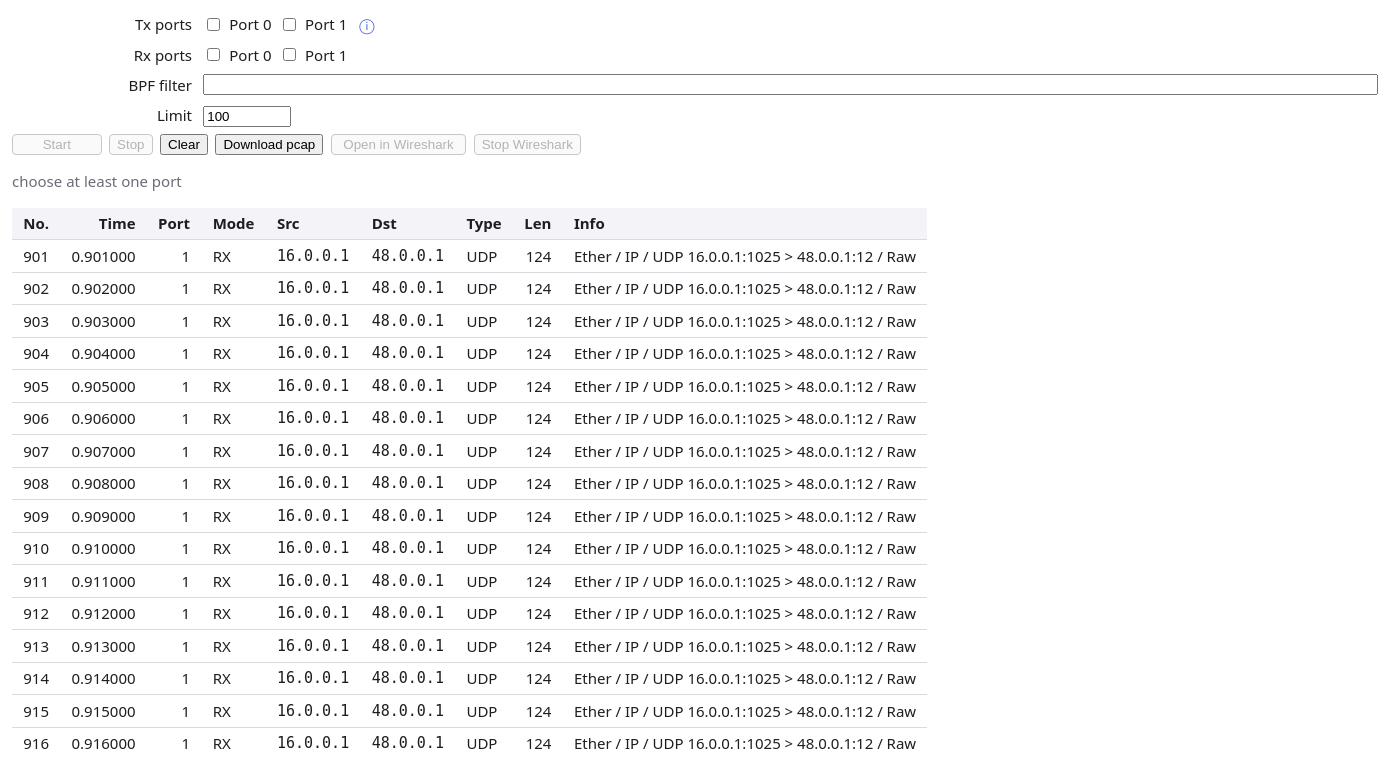
Test case: CaptureMonitor › a refused Start keeps the rows of the earlier monitor
Click the checkbox labelled "Port 1" in the row of "Rx ports" at (290, 55), box [283, 48, 296, 61]
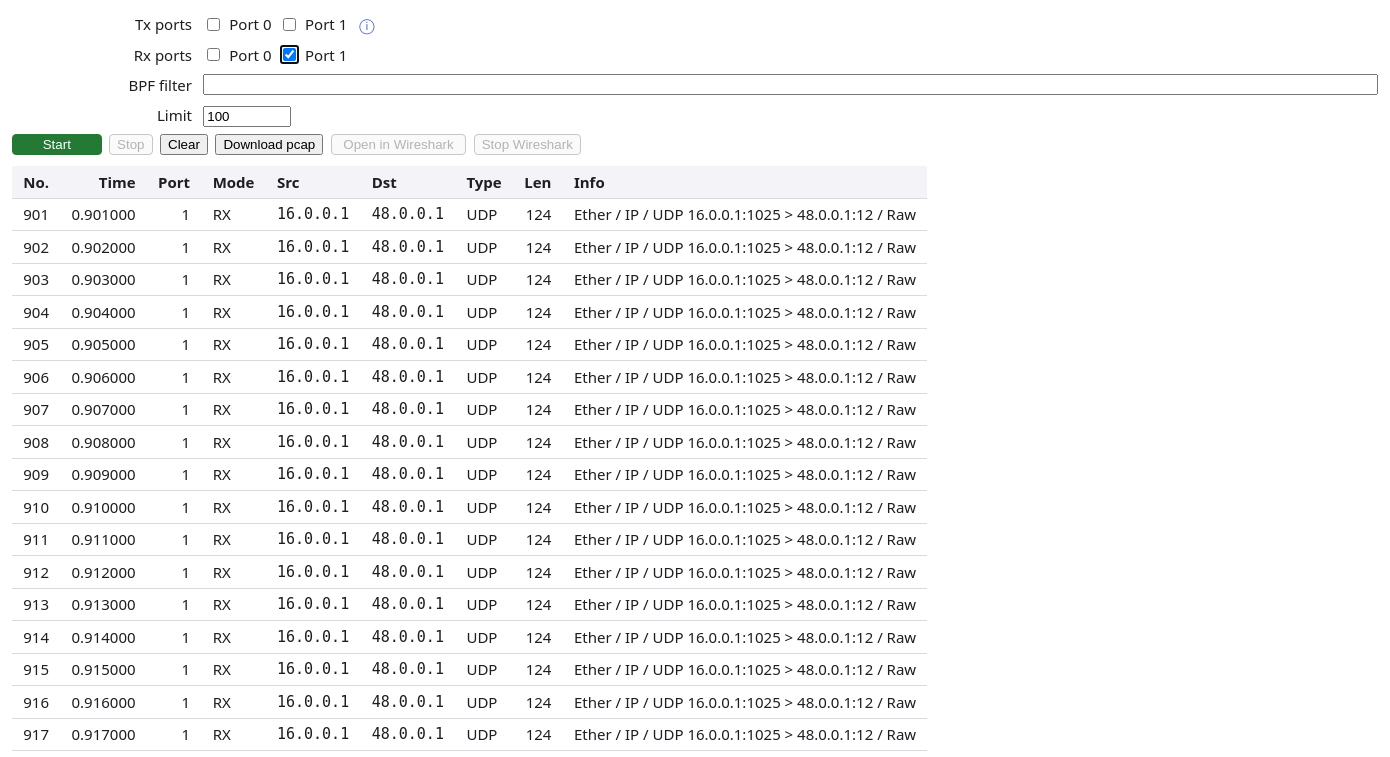
Click the button "Start" at (57, 144), box [12, 134, 102, 155]
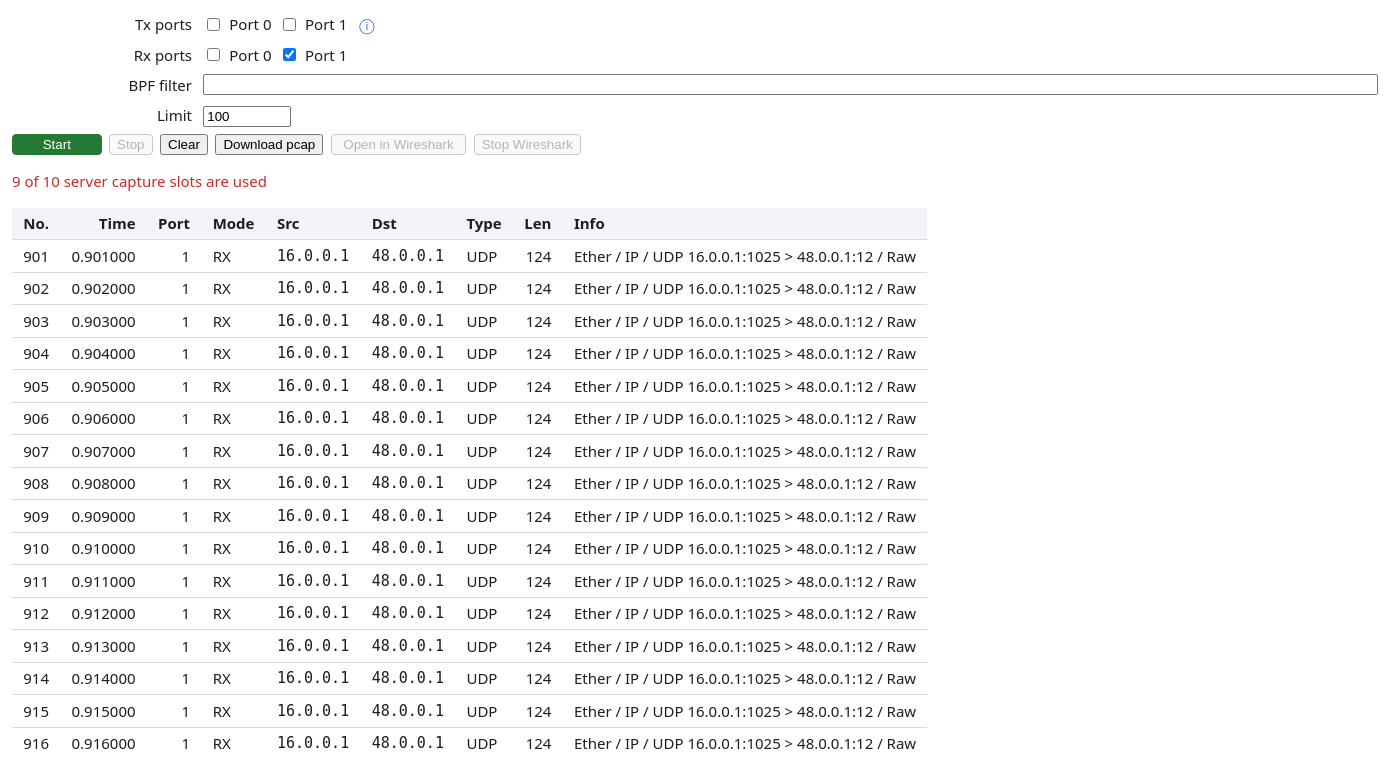
Check: the message shows "9 of 10", box [12, 171, 267, 191]
